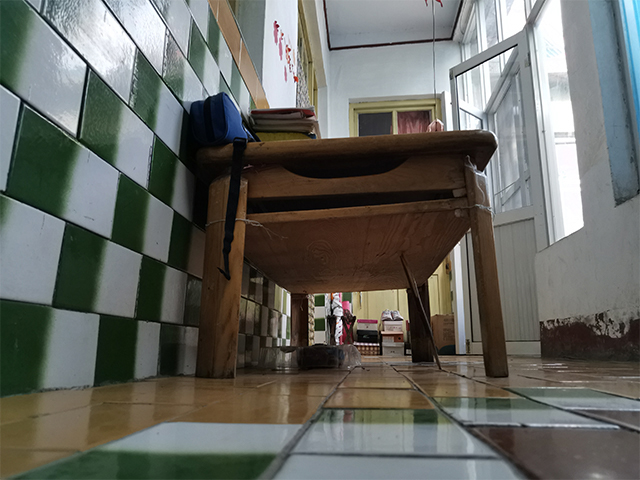table: (193, 126, 511, 381)
